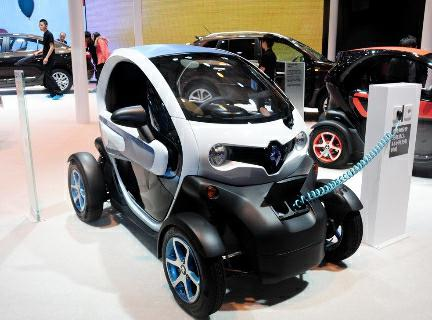雷诺-Twizy: (62, 41, 367, 317)
